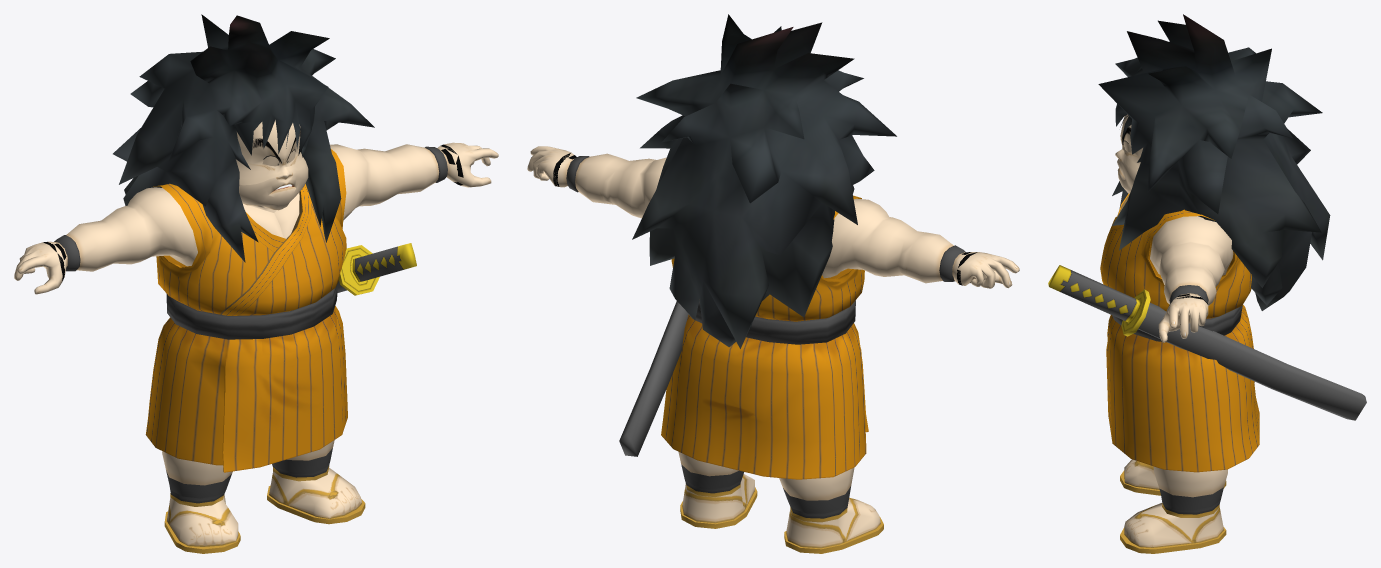
Rendered from citizen-fat-lod0.glb.
The picture shows the model from 3 angles, left to right: view 1: azimuth 30°, elevation 25°; view 2: azimuth 150°, elevation 25°; view 3: azimuth 270°, elevation 25°; orthographic projection. The views are drawn at different scales.
Parts seen in each view (by area): view 1: YJR00; view 2: YJR00; view 3: YJR00.
Part boxes in pixels (bbox=[...]): YJR00: bbox=[14, 14, 498, 553]; YJR00: bbox=[527, 14, 1019, 553]; YJR00: bbox=[1048, 14, 1366, 553].
Size of the model in its own units: 3.74 by 3.68 by 2.19.
Materials: 25 (24 with a texture image).
